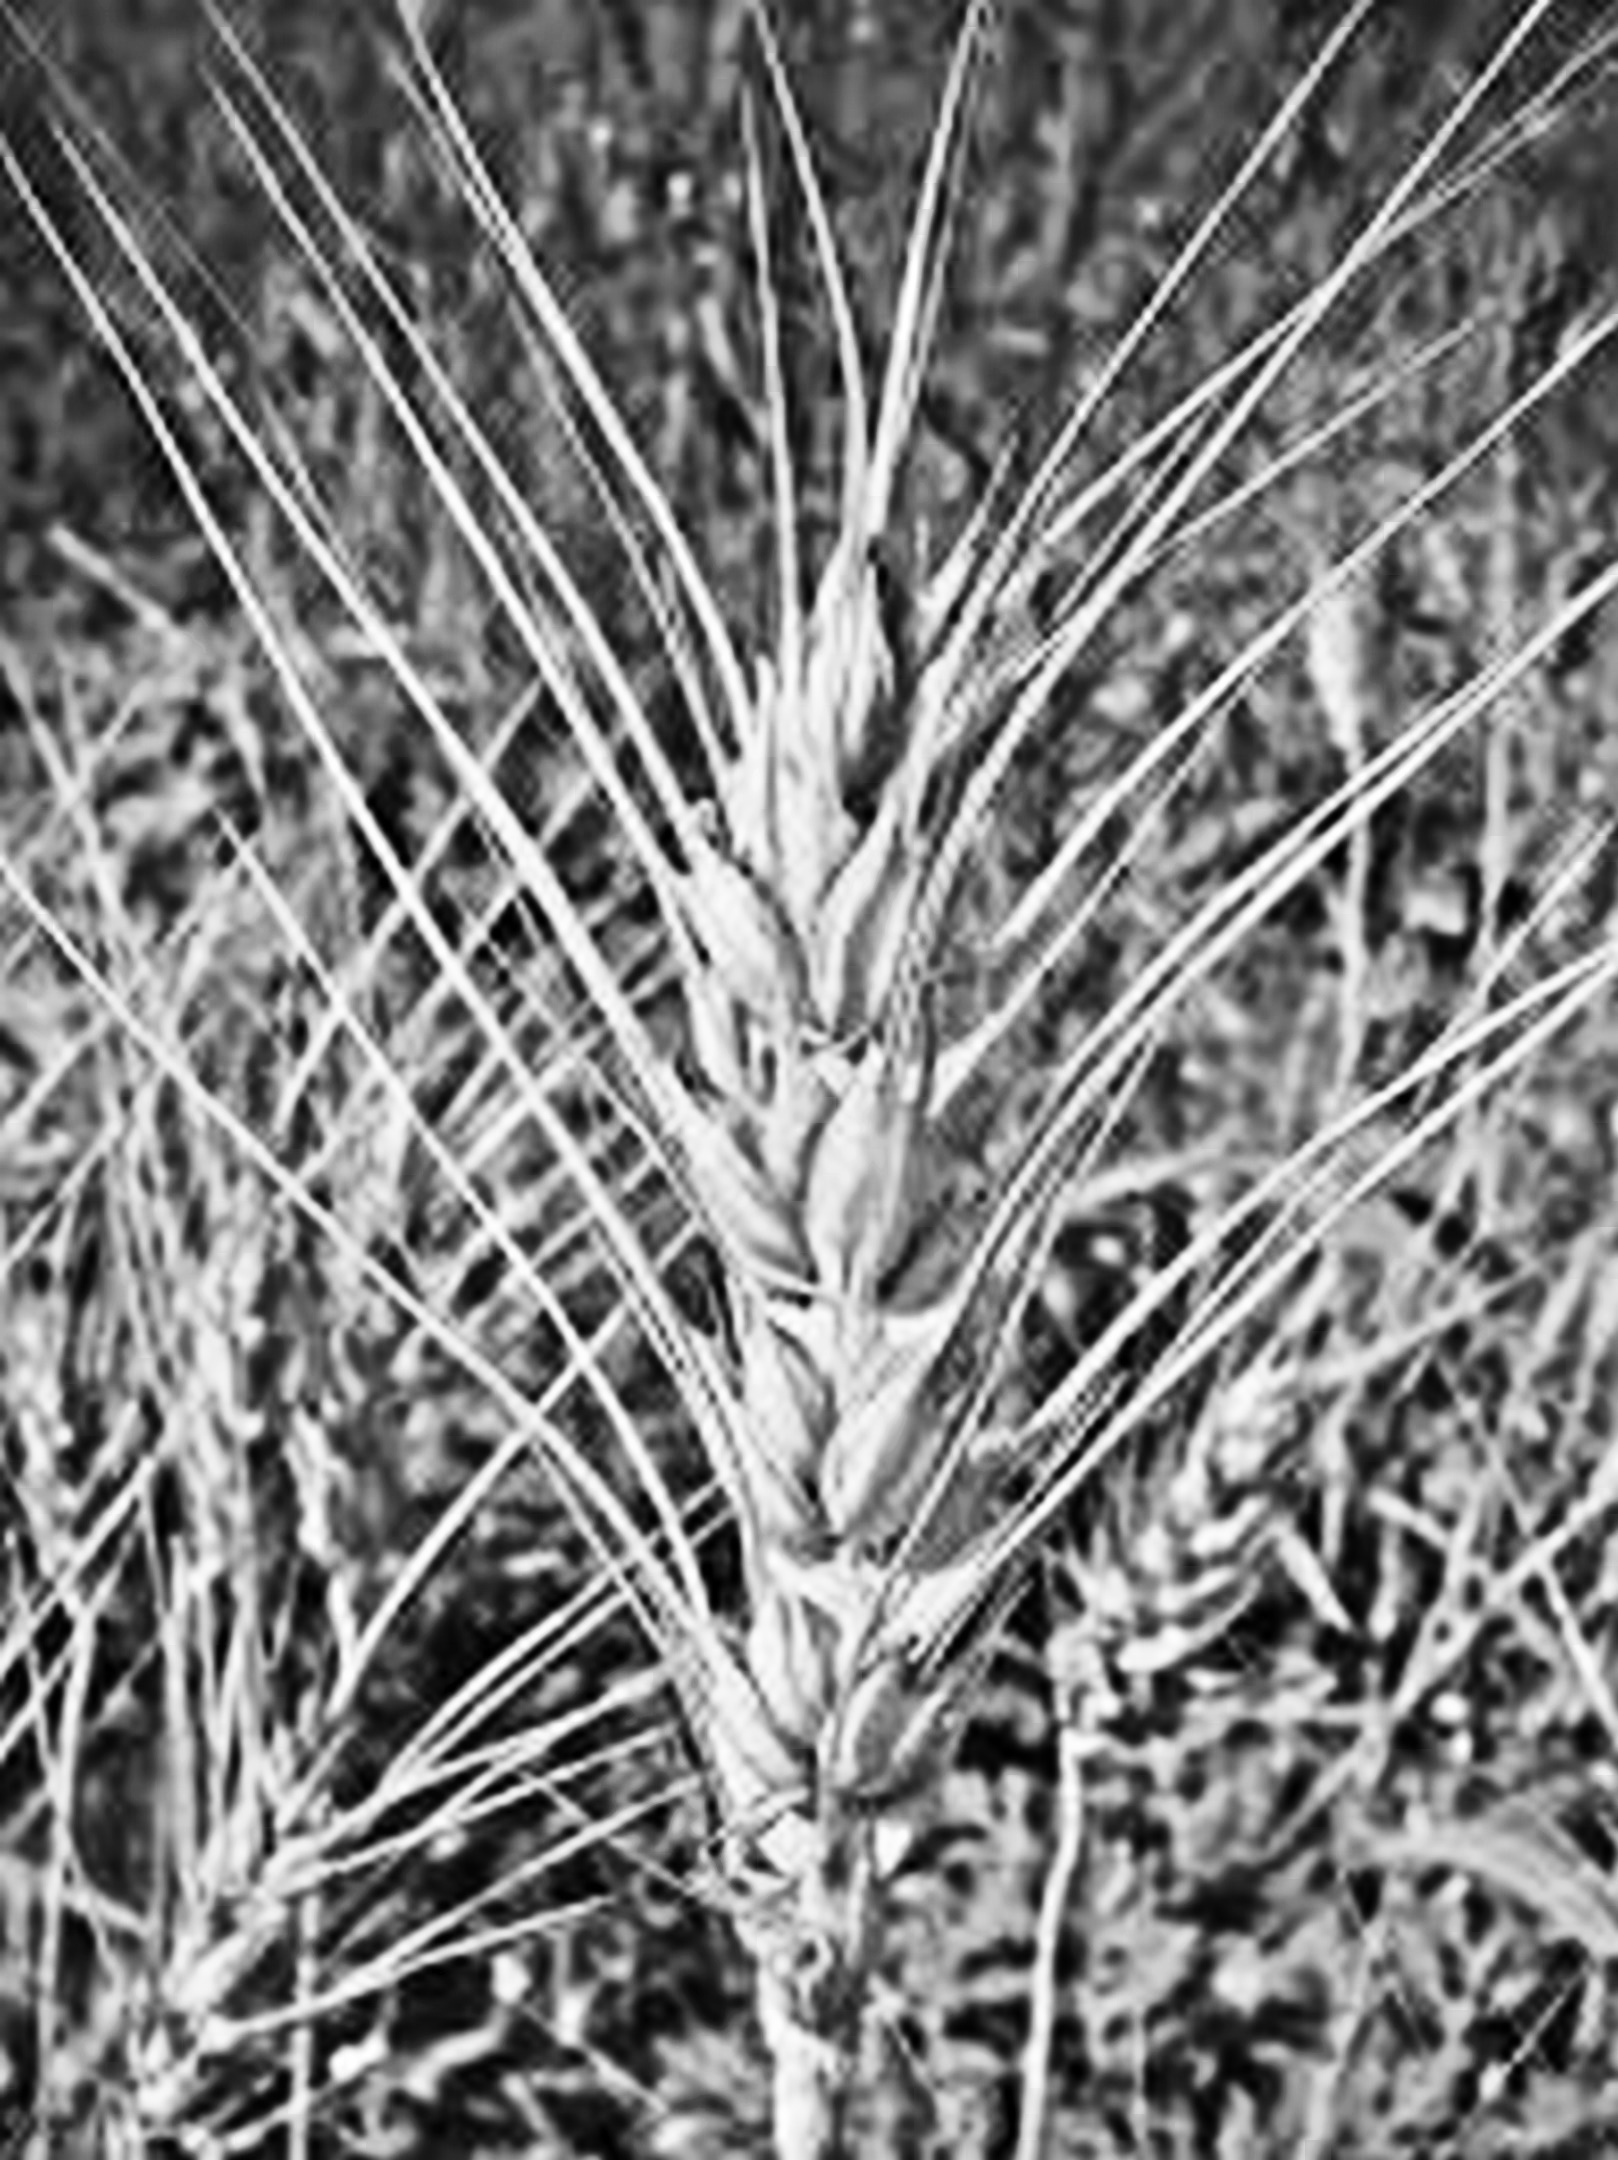Healthy Wheat: (649, 472, 1040, 1841)
